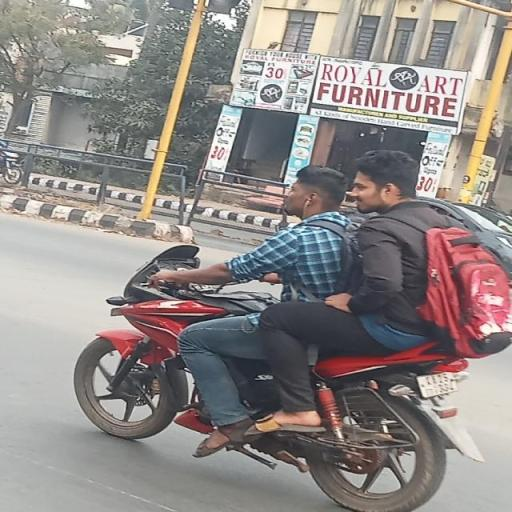bike: (66, 145, 511, 512)
withouthelmet: (354, 150, 416, 214), (290, 166, 344, 214)
